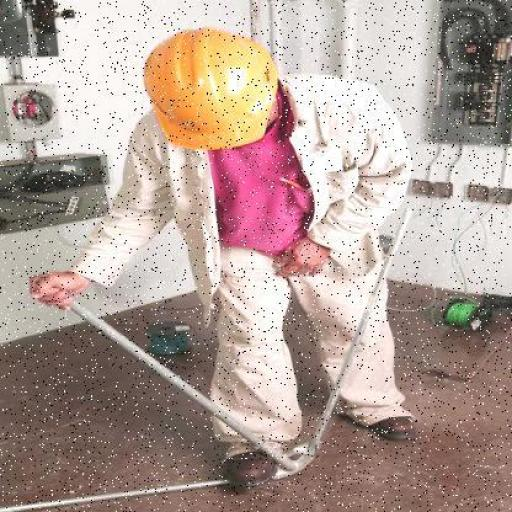person: (86, 28, 424, 490)
safety_shoe: (222, 438, 281, 492), (363, 404, 420, 444)
